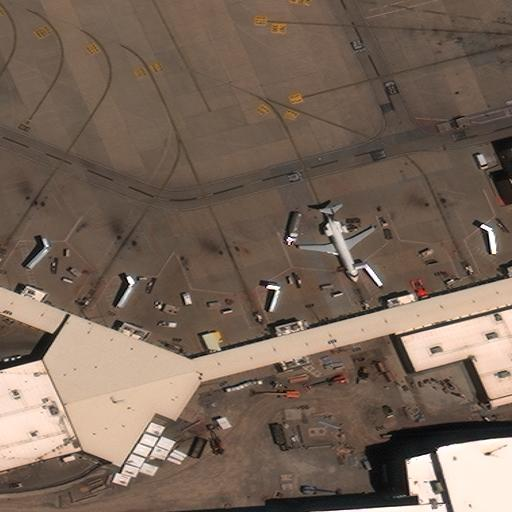Medium Civil Transport: (299, 207, 375, 282)
